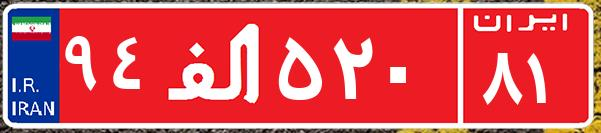0: (385, 28, 445, 110)
1: (525, 38, 570, 115)
2: (330, 28, 385, 110)
4: (110, 28, 158, 105)
5: (273, 28, 330, 110)
8: (475, 38, 525, 113)
9: (57, 26, 110, 107)
الف: (158, 15, 273, 115)
